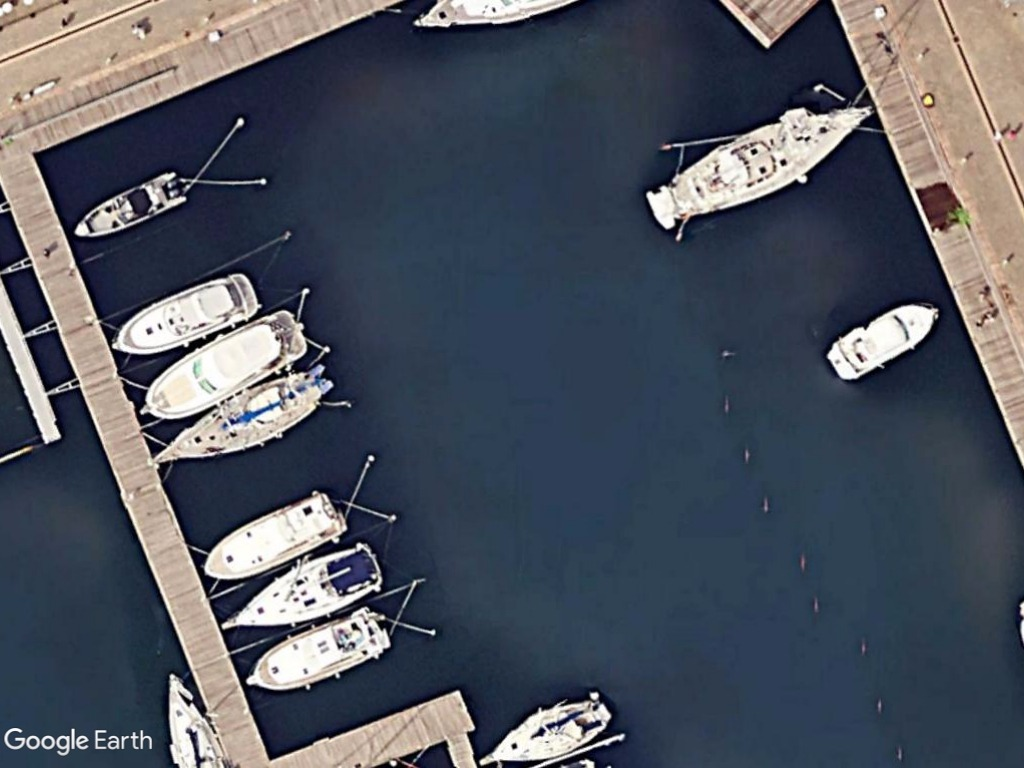boat: (647, 98, 877, 229), (132, 308, 312, 425), (152, 364, 331, 471), (221, 539, 387, 635), (197, 485, 355, 584), (105, 269, 264, 359), (239, 607, 398, 695), (820, 298, 944, 389), (483, 693, 621, 768), (71, 168, 194, 244)
